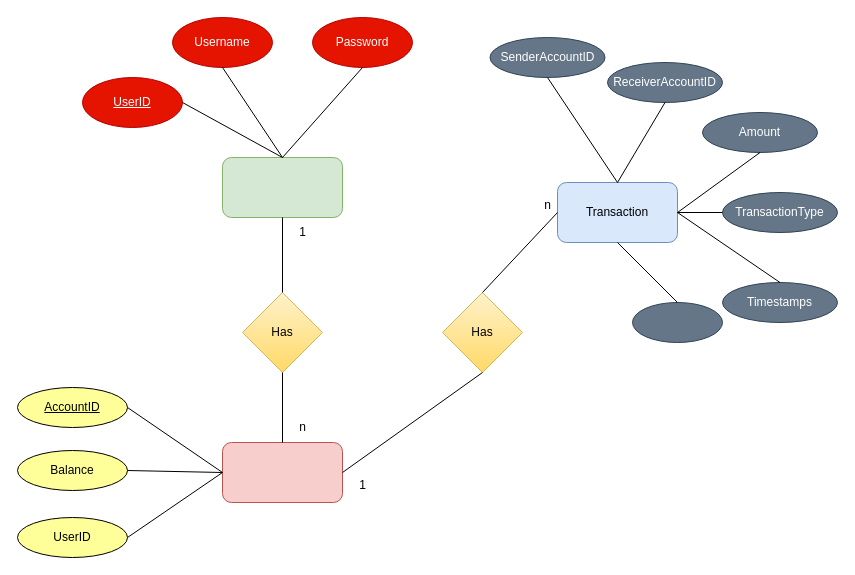
Image size: 855x575. Some labels were removed from this diagram. Here are the shapes that lost their labels. From the top down, the centre of each, then its label:
the point at 282,187: User
the point at 677,322: TransactionID
the point at 282,472: Account
